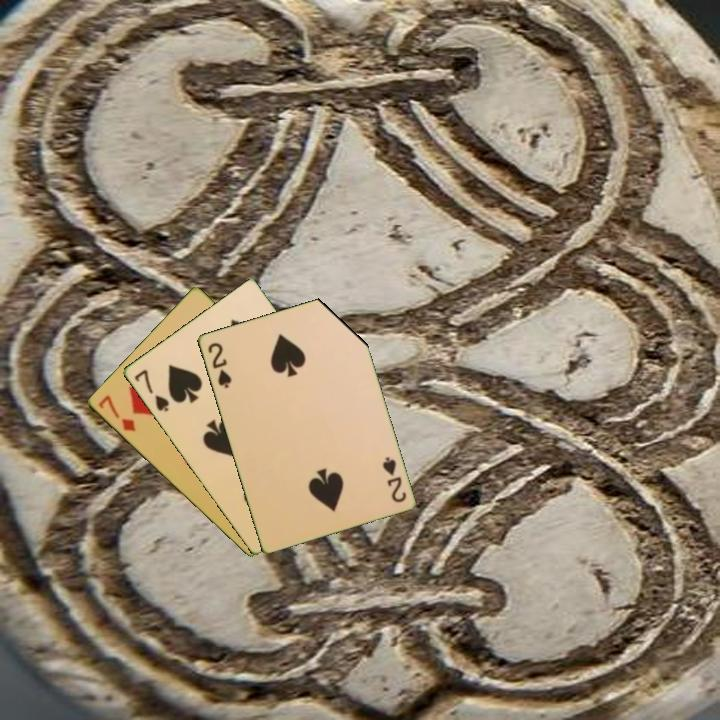2s: (378, 453, 409, 505), (204, 339, 234, 391)
7d: (94, 392, 138, 435)
7s: (130, 366, 172, 415)
